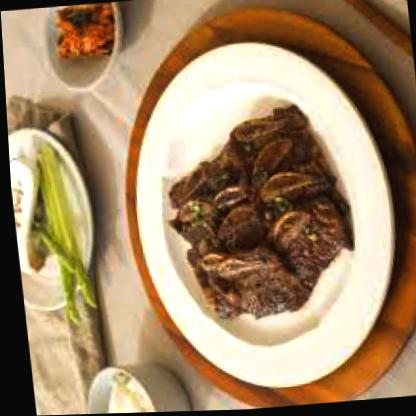Kimchi stew: (43, 4, 123, 68)
Korean rib: (154, 111, 340, 325)
